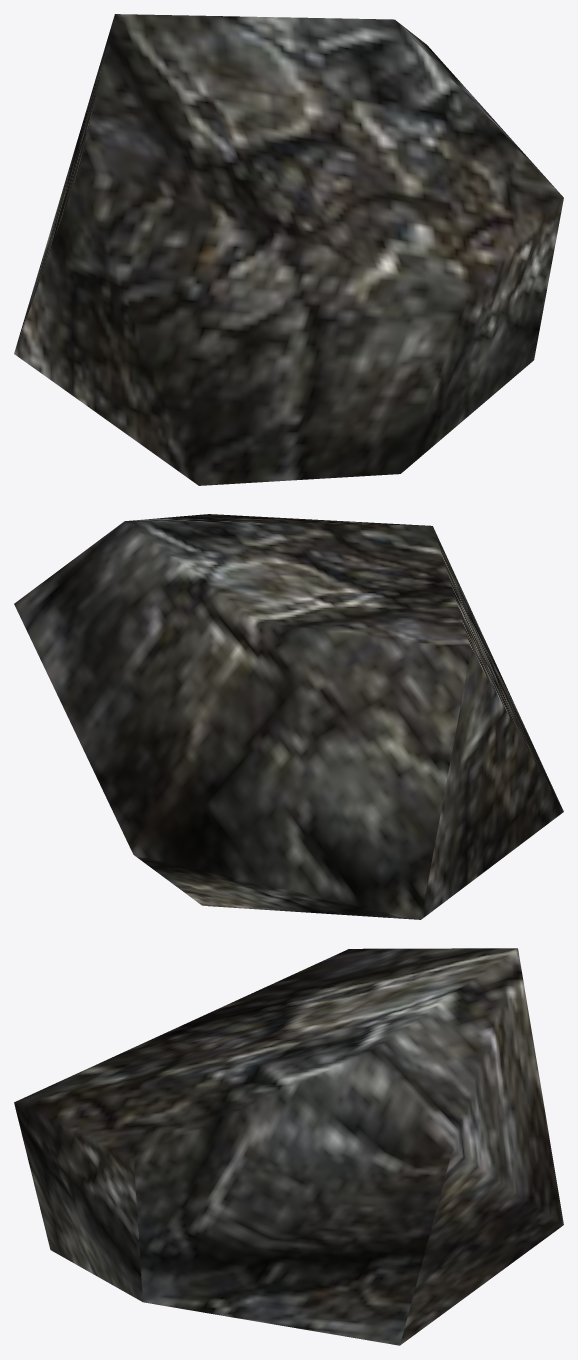
Rendered from Rock11.fbx.
3 views of the same model, one above another, from view 1: azimuth 30°, elevation 25°; view 2: azimuth 150°, elevation 25°; view 3: azimuth 270°, elevation 25° (orthographic). The views are drawn at different scales.
Visible parts, largest first — view 1: Rock11; view 2: Rock11; view 3: Rock11.
Boxes of the visible parts, x1,y1,x2,y2 form: Rock11: [14, 14, 563, 485]; Rock11: [14, 514, 563, 919]; Rock11: [14, 948, 563, 1345].
Bounding box in the file's own units: 3.91 × 3.25 × 4.73.
